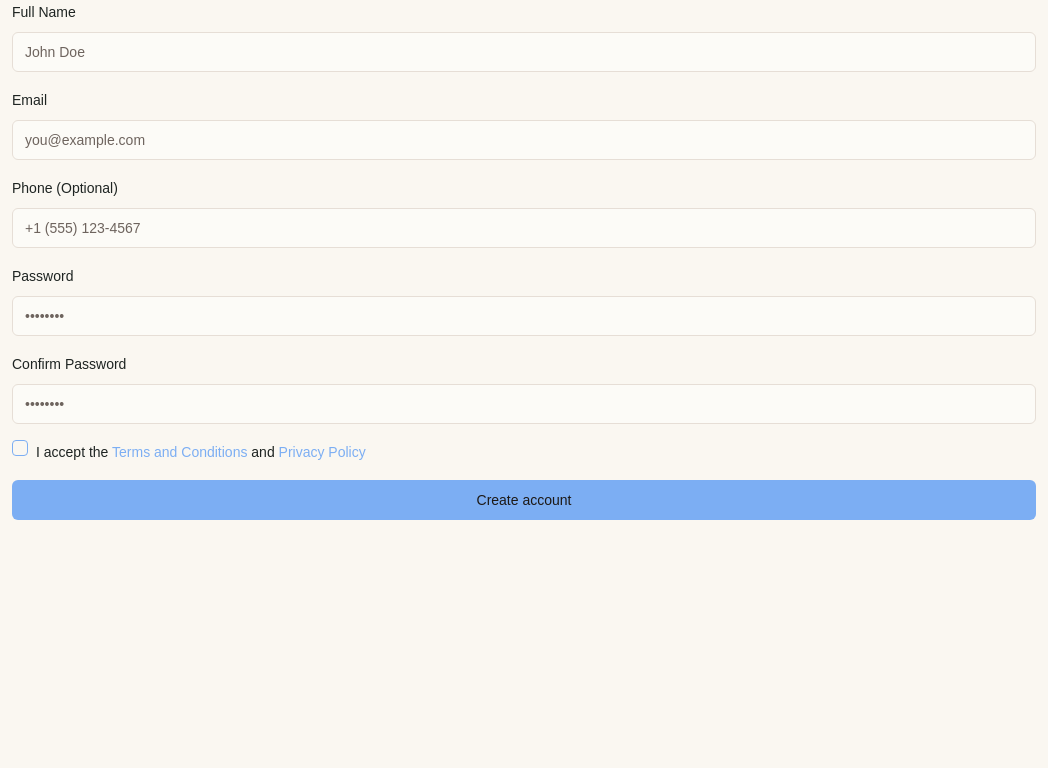
RegisterForm › shows validation errors for empty required fields
What coordinates should you click on to do the following:
click the button "Create account"
I would click on:
 (524, 500)
Its box is [12,480,1036,520].
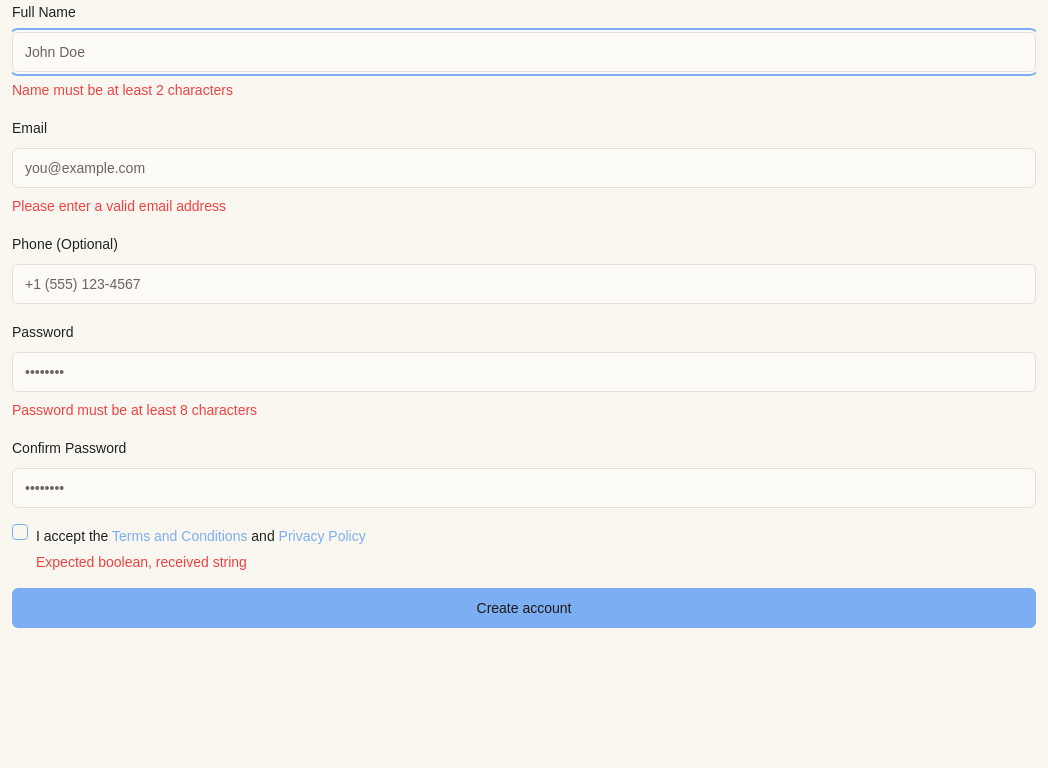
Result: the text "Name must be at least 2 characters" is shown at [12,82,233,98]
Result: the text "Please enter a valid email address" is shown at [12,198,226,214]
